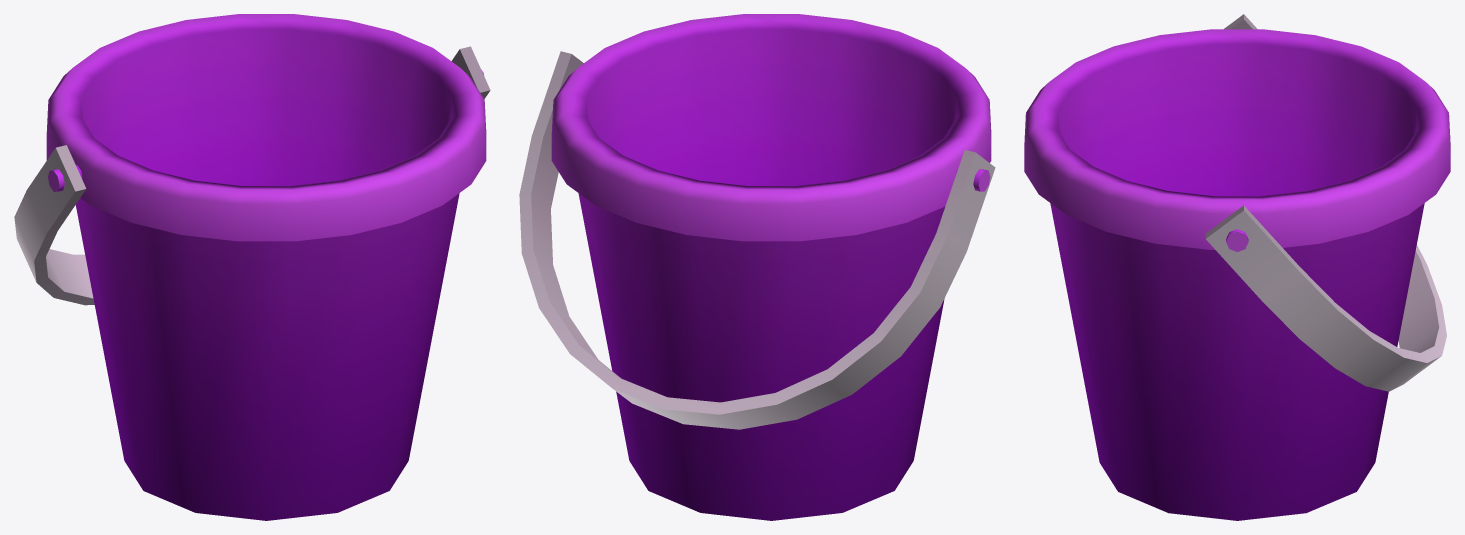
The model's file is bucket.fbx.
3 renders of one model, left to right at view 1: azimuth 30°, elevation 25°; view 2: azimuth 150°, elevation 25°; view 3: azimuth 270°, elevation 25°, orthographic. The views are drawn at different scales.
Visible parts, largest first — view 1: bucket; view 2: bucket; view 3: bucket.
Boxes of the visible parts, x1,y1,x2,y2 form: bucket: (14,14,490,520); bucket: (519,14,995,520); bucket: (1024,14,1450,520).
Size of the model in its own units: 23.97 by 19.44 by 21.44.
